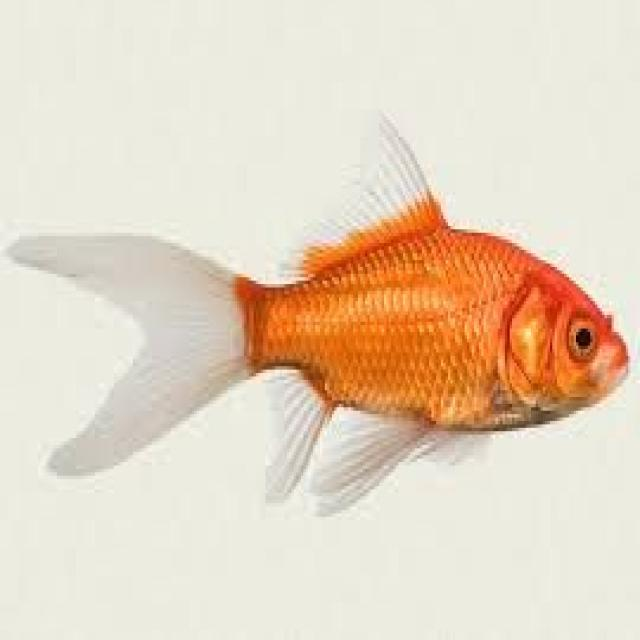Gold-Fish: (0, 92, 640, 541)
